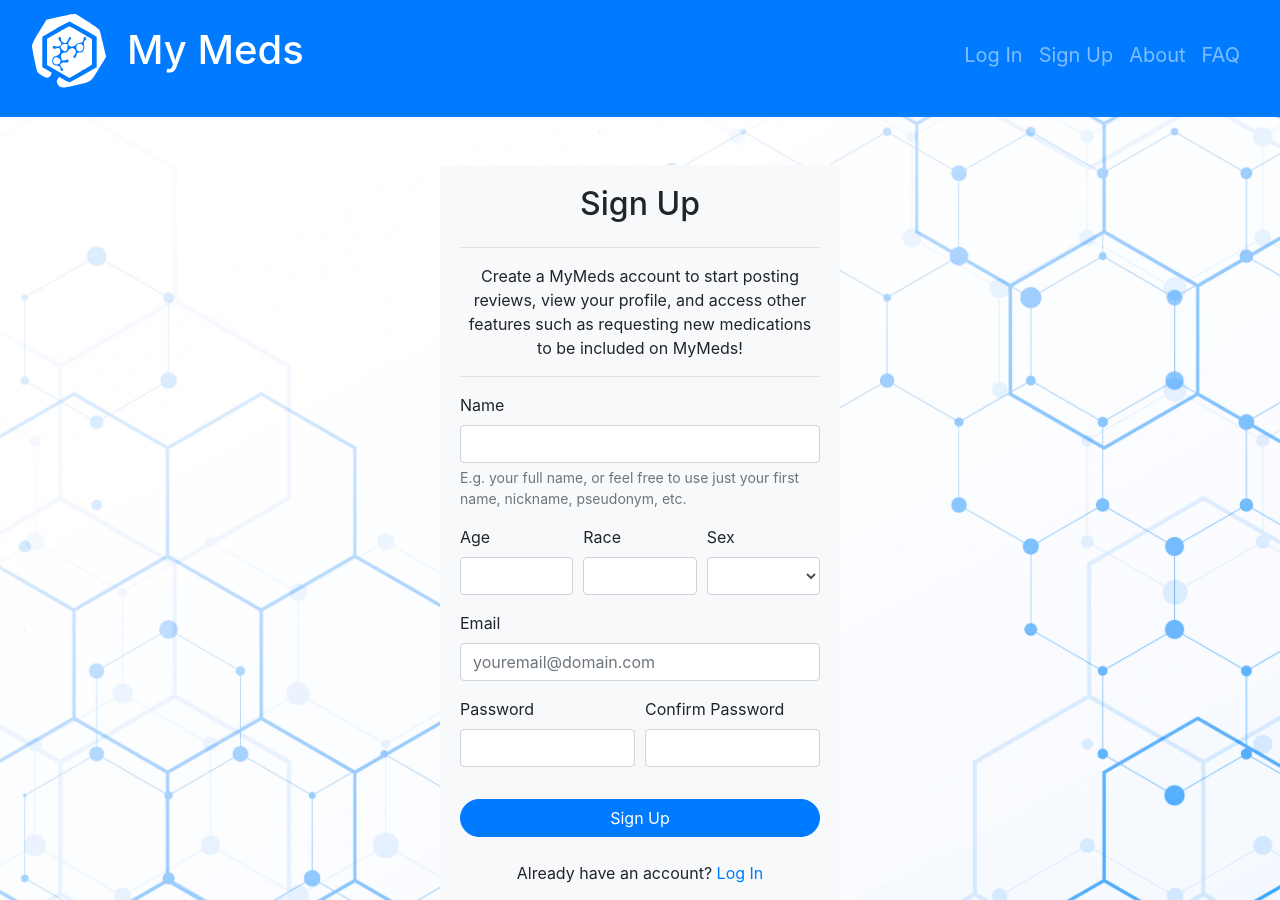
Scenario: Button disabled when Age is not a number
Type "as" into the field with test id "age-input".
click(517, 576); type("as")  # box [460,557,573,595]
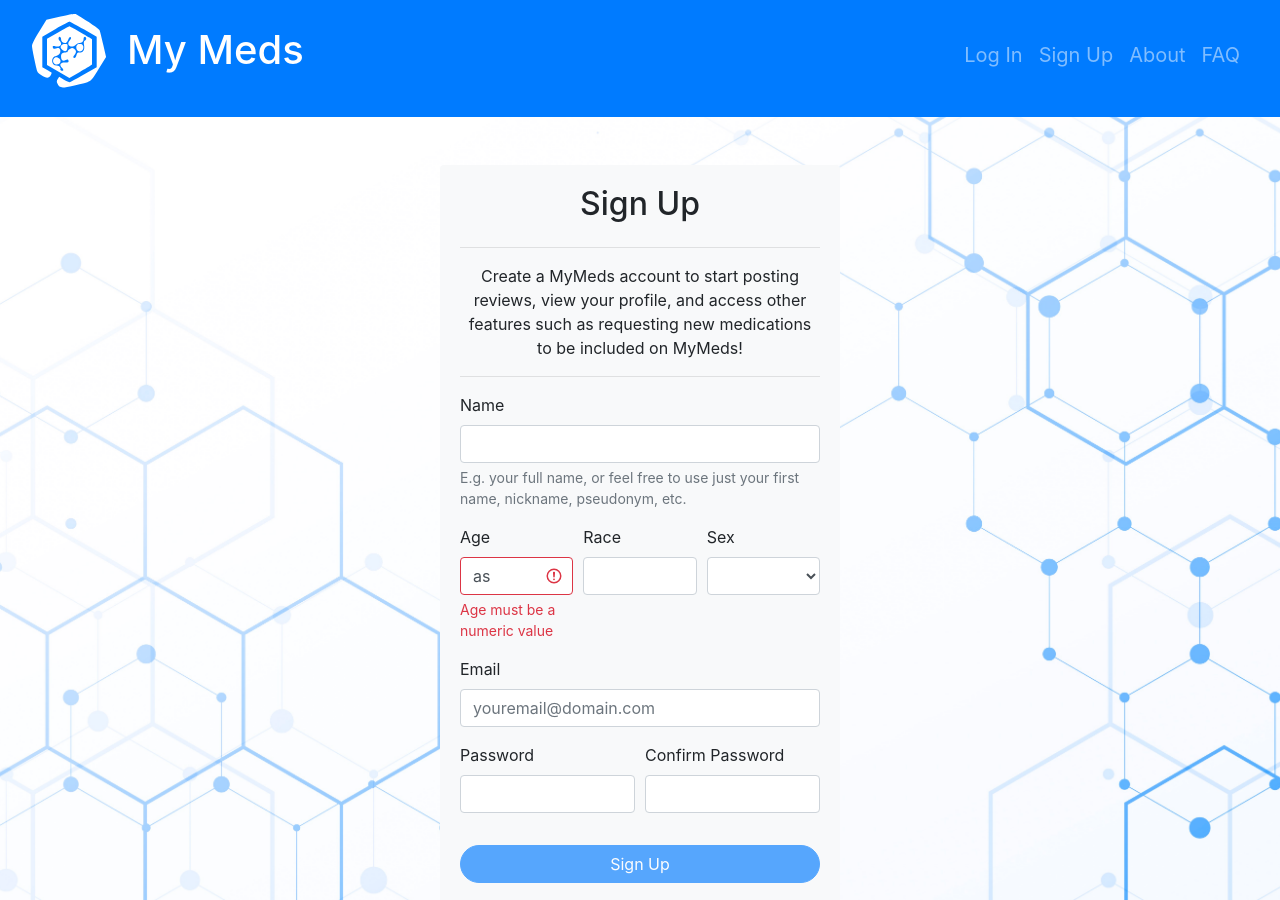
Expected: the button with test id "button" is disabled, [460,845,820,883]
